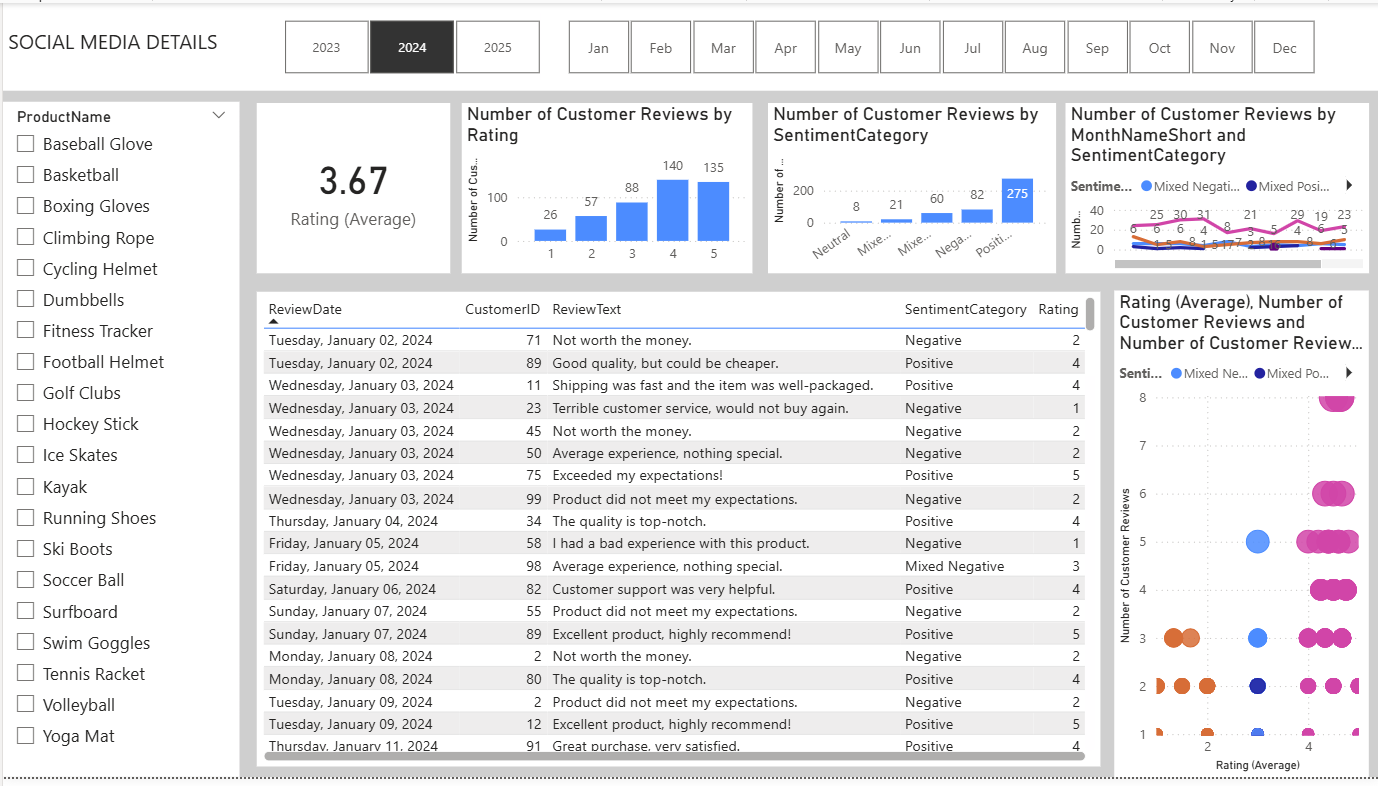

What the dashboard file says about the page in this screenshot:
{"tool":"powerbi","page":{"name":"Customer Review Details","canvas":[1280,720],"ordinal":3},"visuals":[{"type":"textbox","box":[0,0,1280.2,81.9],"z":0},{"type":"slicer","fields":{"Values":["dim_products.ProductName"]},"box":[0,91.9,219.8,627.9],"z":1000},{"type":"slicer","fields":{"Values":["Calender.Year"]},"box":[236,9.3,287.2,62.8],"z":2000},{"type":"slicer","fields":{"Values":["Calender.MonthNameShort"]},"box":[500,9.3,744.2,62.8],"z":3000},{"type":"card","fields":{"Values":["_Calculations.Rating (Average)"]},"box":[236.5,92.5,180.1,158.5],"z":4000},{"type":"clusteredColumnChart","fields":{"Y":["_Calculations.Number of Customer Reviews"],"Category":["fact_customer_reviews_with_sentiment.Rating"]},"box":[426.3,92.5,270.2,158.5],"z":5000},{"type":"clusteredColumnChart","fields":{"Y":["_Calculations.Number of Customer Reviews"],"Category":["fact_customer_reviews_with_sentiment.SentimentCategory"]},"box":[712,92.5,267.8,158.5],"z":6000},{"type":"lineChart","fields":{"Y":["_Calculations.Number of Customer Reviews"],"Category":["Calender.MonthNameShort"],"Series":["fact_customer_reviews_with_sentiment.SentimentCategory"]},"box":[988.2,92.5,282.2,158.5],"z":7000},{"type":"tableEx","fields":{"Values":["fact_customer_reviews_with_sentiment.ReviewDate","fact_customer_reviews_with_sentiment.CustomerID","fact_customer_reviews_with_sentiment.ReviewText","fact_customer_reviews_with_sentiment.SentimentCategory","fact_customer_reviews_with_sentiment.Rating"]},"box":[236.6,268.3,784.7,441.5],"z":8000},{"type":"scatterChart","fields":{"X":["_Calculations.Rating (Average)"],"Y":["_Calculations.Number of Customer Reviews"],"Category":["dim_customers.CustomerID"],"Series":["fact_customer_reviews_with_sentiment.SentimentCategory"],"Size":["_Calculations.Number of Customer Reviews"]},"box":[1033.8,267.8,236.5,452.7],"z":8001}]}

Visuals, with their boxes in screenshot pixels (x1, y1, x2, y2), scaled from the page's 1280x720 canvas onto the 1378x786 screenshot:
textbox: x1=0, y1=0, x2=1377, y2=89
slicer - dim_products.ProductName: x1=0, y1=100, x2=237, y2=785
slicer - Calender.Year: x1=254, y1=10, x2=563, y2=79
slicer - Calender.MonthNameShort: x1=538, y1=10, x2=1339, y2=79
card - _Calculations.Rating (Average): x1=255, y1=101, x2=448, y2=274
clusteredColumnChart - _Calculations.Number of Customer Reviews x fact_customer_reviews_with_sentiment.Rating: x1=459, y1=101, x2=750, y2=274
clusteredColumnChart - _Calculations.Number of Customer Reviews x fact_customer_reviews_with_sentiment.SentimentCategory: x1=767, y1=101, x2=1055, y2=274
lineChart - _Calculations.Number of Customer Reviews x Calender.MonthNameShort: x1=1064, y1=101, x2=1368, y2=274
tableEx - fact_customer_reviews_with_sentiment.ReviewDate x fact_customer_reviews_with_sentiment.CustomerID: x1=255, y1=293, x2=1099, y2=775
scatterChart - _Calculations.Rating (Average) x _Calculations.Number of Customer Reviews: x1=1113, y1=292, x2=1368, y2=785
